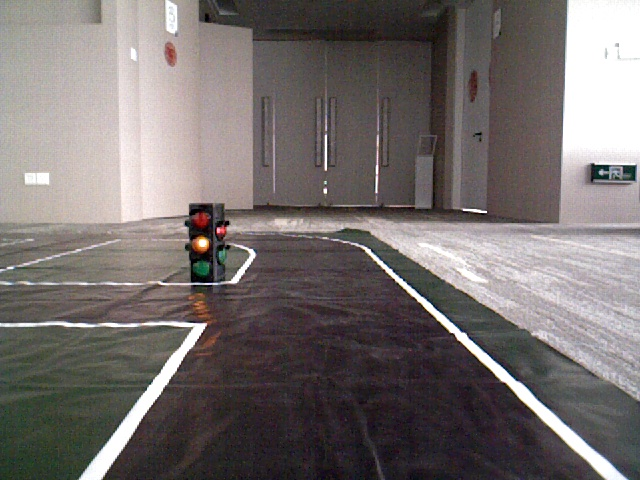yellow: (189, 205, 216, 277)
